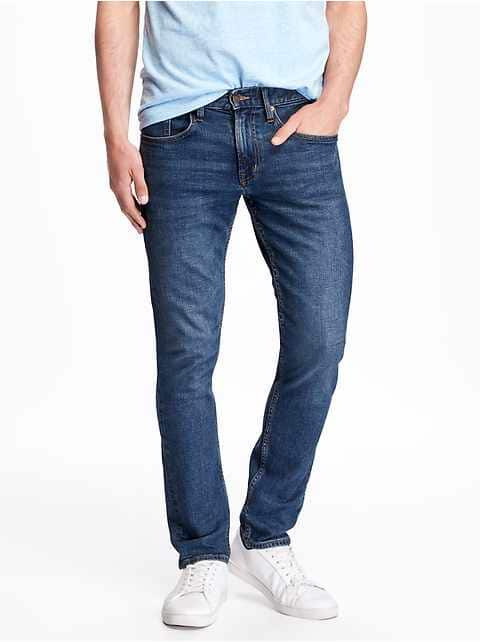Jeans: (135, 89, 363, 563)
